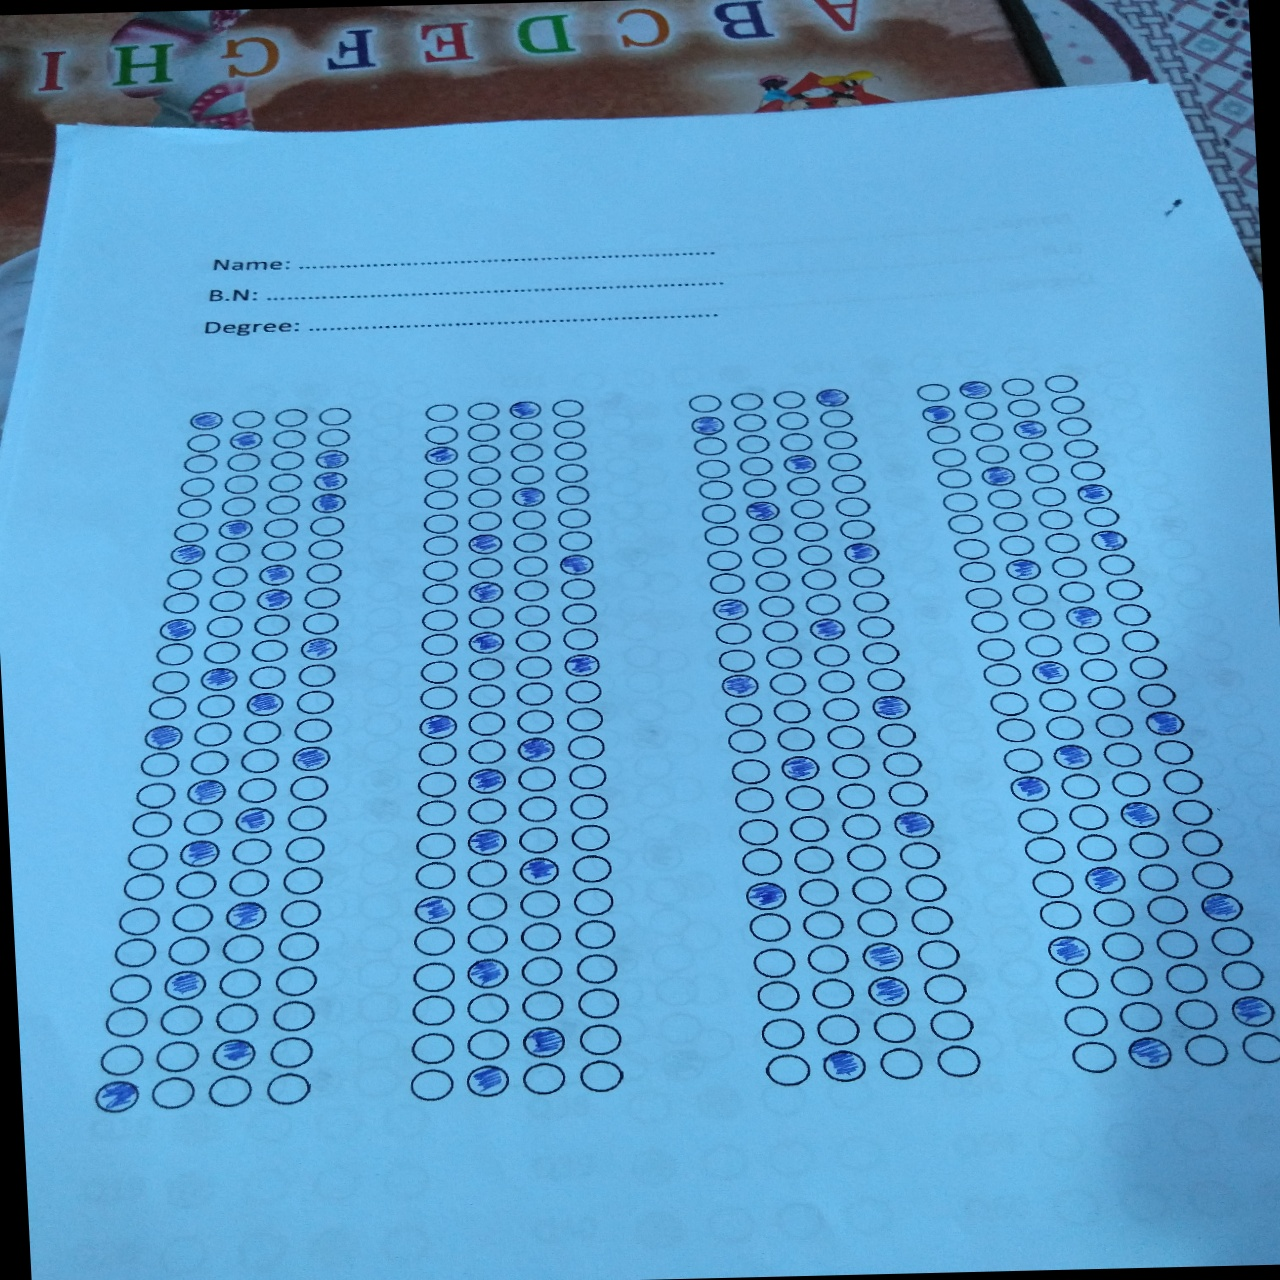not-c: (573, 952, 620, 989), (206, 1073, 254, 1109), (98, 1043, 147, 1080), (407, 1067, 455, 1103), (410, 958, 458, 994), (520, 1062, 568, 1098), (578, 1058, 626, 1095), (577, 1021, 625, 1057), (574, 985, 622, 1021), (764, 1053, 812, 1089), (930, 1008, 978, 1044), (1183, 1033, 1231, 1069), (1175, 995, 1223, 1032), (1053, 965, 1101, 1001), (1210, 922, 1258, 959), (1155, 927, 1203, 964), (1036, 897, 1084, 933), (914, 937, 962, 973), (872, 1009, 920, 1046), (813, 1012, 862, 1048), (803, 941, 851, 978), (151, 1076, 198, 1112), (154, 1039, 200, 1075), (878, 1046, 925, 1082), (1070, 1040, 1117, 1076), (1118, 999, 1165, 1035), (1220, 958, 1267, 994), (751, 945, 798, 981), (922, 972, 971, 1007), (1062, 1005, 1110, 1040), (1099, 930, 1148, 965), (760, 1016, 808, 1051), (753, 978, 801, 1013), (808, 976, 856, 1012), (903, 871, 951, 906), (411, 992, 457, 1028), (937, 1044, 983, 1080), (1108, 964, 1155, 999), (1164, 961, 1211, 996), (747, 910, 794, 945), (799, 907, 846, 942), (855, 905, 901, 940), (910, 903, 956, 938), (409, 1032, 456, 1065), (465, 1027, 512, 1061), (847, 874, 896, 907), (794, 876, 842, 908), (735, 816, 783, 849), (113, 937, 159, 969), (163, 933, 210, 966), (275, 931, 322, 964), (217, 966, 264, 999), (264, 1073, 311, 1105), (738, 846, 785, 879), (787, 812, 833, 845), (1021, 836, 1068, 869), (1135, 862, 1182, 894), (1126, 828, 1173, 860), (1090, 897, 1137, 930), (465, 990, 510, 1024), (116, 904, 162, 937), (274, 965, 320, 998), (108, 972, 154, 1005), (105, 1006, 151, 1039), (268, 1036, 314, 1069), (1030, 869, 1076, 901), (1065, 801, 1111, 833), (1159, 765, 1205, 798), (218, 933, 265, 965), (843, 842, 890, 873), (897, 840, 944, 872), (1177, 828, 1224, 859), (1075, 831, 1122, 863), (1169, 796, 1216, 828), (411, 924, 456, 956), (522, 989, 566, 1022), (278, 898, 324, 930), (157, 1005, 203, 1036), (213, 1001, 259, 1033), (271, 1000, 316, 1032), (791, 843, 837, 874), (1144, 894, 1190, 926), (513, 763, 558, 795), (515, 794, 559, 825), (568, 822, 613, 853), (566, 762, 611, 794), (564, 731, 608, 763), (568, 853, 613, 885), (464, 890, 509, 921), (467, 922, 511, 954), (572, 918, 617, 949), (170, 901, 215, 933), (1191, 860, 1235, 892), (1240, 1030, 1280, 1065), (515, 824, 560, 855), (570, 887, 615, 918), (284, 803, 329, 833), (836, 781, 881, 811), (1099, 738, 1145, 769), (465, 857, 509, 888), (467, 795, 510, 826), (520, 955, 564, 987), (518, 888, 563, 919), (518, 920, 563, 951), (231, 836, 275, 866), (125, 842, 170, 872), (122, 870, 166, 900), (1016, 804, 1061, 835), (721, 701, 765, 731), (282, 835, 328, 864), (225, 869, 271, 898), (280, 866, 326, 896), (1108, 769, 1153, 798), (782, 784, 828, 813), (1149, 736, 1194, 765), (568, 792, 612, 823), (286, 772, 331, 802), (234, 775, 279, 804), (238, 747, 282, 776), (173, 870, 218, 899), (886, 778, 931, 808), (715, 645, 760, 674), (731, 785, 777, 813), (130, 809, 173, 838), (726, 727, 769, 756), (464, 709, 509, 737), (414, 769, 458, 797), (414, 831, 458, 859), (132, 781, 177, 809), (1058, 771, 1103, 799), (728, 758, 772, 787), (1001, 745, 1046, 774), (467, 736, 509, 765), (416, 738, 459, 767), (415, 799, 458, 828), (414, 860, 457, 888), (188, 749, 231, 777), (137, 750, 181, 778), (838, 812, 881, 840), (247, 663, 290, 692), (292, 716, 334, 744), (193, 721, 236, 749), (181, 808, 223, 836), (559, 626, 602, 653), (515, 708, 558, 735), (763, 644, 806, 670), (825, 724, 869, 751), (809, 642, 852, 669), (874, 721, 918, 748), (829, 753, 872, 779), (771, 697, 812, 726), (154, 641, 196, 668), (417, 658, 459, 685), (195, 692, 237, 719), (712, 619, 754, 646), (765, 670, 808, 697), (821, 696, 863, 723), (860, 640, 903, 667), (865, 667, 907, 694), (1135, 681, 1177, 708), (975, 635, 1017, 662), (969, 607, 1012, 634), (964, 585, 1006, 612), (956, 559, 999, 586), (1056, 578, 1098, 605), (563, 706, 606, 731), (248, 636, 290, 663), (241, 719, 282, 745), (776, 726, 817, 753), (816, 668, 857, 695), (881, 751, 922, 778), (855, 613, 896, 640), (1043, 714, 1084, 741), (1092, 712, 1133, 738), (1085, 685, 1126, 712), (417, 632, 459, 658), (512, 628, 554, 654), (468, 683, 510, 709), (512, 681, 554, 707), (295, 663, 338, 689), (149, 669, 191, 695), (147, 695, 189, 721), (292, 689, 334, 715), (757, 619, 799, 645), (850, 590, 892, 615), (996, 717, 1039, 743), (988, 692, 1030, 717), (981, 663, 1023, 689), (1077, 658, 1119, 683), (1111, 601, 1151, 628), (299, 612, 342, 636), (513, 653, 554, 679), (467, 655, 508, 681), (418, 683, 459, 709), (561, 679, 602, 704), (803, 591, 844, 617), (1036, 688, 1077, 714), (1126, 654, 1167, 680), (1104, 577, 1145, 602), (1096, 552, 1137, 578), (511, 578, 553, 602), (463, 605, 505, 629), (511, 604, 553, 628), (558, 601, 600, 626), (206, 588, 248, 613), (159, 591, 202, 615), (200, 640, 243, 665), (754, 594, 796, 619), (1121, 628, 1160, 654), (1049, 554, 1089, 580), (795, 543, 835, 568), (203, 614, 246, 638), (251, 613, 294, 636), (207, 564, 248, 588), (302, 561, 343, 586), (1024, 633, 1065, 658), (1073, 631, 1114, 655), (1042, 529, 1081, 554), (418, 581, 461, 605), (301, 586, 343, 610), (421, 486, 461, 511), (464, 399, 504, 423), (799, 567, 839, 592), (753, 568, 792, 593), (421, 559, 462, 583), (418, 467, 459, 490), (421, 399, 462, 422), (554, 529, 595, 552), (418, 607, 459, 631), (1017, 607, 1058, 631), (952, 536, 990, 560), (846, 564, 885, 588), (709, 571, 748, 595), (749, 544, 788, 568), (164, 567, 204, 591), (421, 535, 461, 558), (465, 556, 505, 579), (558, 578, 598, 601), (1010, 583, 1050, 606), (704, 549, 744, 572), (832, 495, 872, 518), (1015, 440, 1055, 463), (819, 429, 859, 452), (420, 512, 461, 535), (510, 531, 551, 553), (922, 423, 964, 445), (738, 477, 779, 499), (731, 433, 772, 455), (731, 411, 772, 434), (745, 523, 787, 545), (998, 533, 1036, 557), (420, 423, 459, 445), (463, 420, 503, 442), (464, 443, 504, 465), (464, 464, 504, 486), (465, 486, 505, 509), (510, 554, 550, 577), (509, 509, 549, 531), (508, 463, 547, 485), (506, 442, 546, 464), (505, 418, 545, 441), (791, 519, 831, 542), (836, 518, 876, 540), (700, 526, 740, 549), (699, 502, 738, 524), (990, 511, 1030, 533), (1037, 508, 1077, 530), (1030, 485, 1070, 508), (1024, 463, 1064, 485), (985, 486, 1024, 509), (941, 491, 981, 513), (966, 422, 1006, 444), (972, 442, 1012, 464), (1067, 459, 1107, 482), (1054, 416, 1094, 438), (1048, 394, 1088, 416), (962, 399, 1002, 421), (998, 376, 1037, 399), (1041, 373, 1081, 395), (816, 408, 856, 430), (824, 451, 864, 474), (783, 475, 823, 497), (692, 457, 731, 479), (735, 456, 775, 478), (774, 410, 813, 433), (692, 434, 731, 456), (686, 393, 726, 415), (769, 389, 809, 411), (930, 445, 971, 467), (1005, 397, 1046, 418), (181, 452, 219, 475), (224, 451, 263, 474), (306, 538, 345, 560), (215, 542, 253, 564), (465, 510, 504, 532), (550, 418, 588, 441), (550, 440, 588, 462), (551, 461, 590, 483), (554, 484, 593, 506), (937, 468, 975, 490), (553, 508, 593, 529), (788, 499, 828, 520), (945, 513, 985, 535), (1081, 506, 1121, 527), (913, 383, 953, 404), (695, 479, 735, 501), (776, 431, 816, 452), (727, 390, 767, 411), (268, 449, 306, 471), (261, 517, 299, 539), (219, 495, 257, 517), (177, 475, 215, 497), (172, 520, 210, 543), (308, 516, 346, 538), (828, 474, 869, 493), (264, 493, 302, 515), (222, 474, 260, 495), (175, 498, 213, 519), (549, 397, 587, 418), (1062, 438, 1101, 459), (260, 539, 297, 561), (270, 429, 307, 450), (266, 472, 304, 493), (316, 406, 353, 427), (185, 433, 222, 454), (229, 409, 266, 429), (272, 408, 309, 428), (315, 428, 352, 448)
taken-c: (462, 1062, 512, 1099), (518, 1024, 568, 1061), (1197, 890, 1247, 926), (207, 1036, 257, 1073), (91, 1078, 141, 1115), (462, 954, 511, 990), (410, 892, 459, 928), (1043, 933, 1092, 968), (858, 939, 906, 974), (1125, 1035, 1175, 1069), (1226, 995, 1275, 1029), (821, 1049, 867, 1084), (159, 968, 207, 1002), (1080, 863, 1128, 897), (1115, 798, 1164, 831), (515, 855, 561, 888), (865, 974, 912, 1008), (465, 828, 513, 860), (414, 710, 462, 743), (513, 731, 559, 765), (465, 764, 512, 797), (1007, 772, 1055, 804), (891, 809, 937, 840), (743, 880, 790, 911), (1029, 658, 1075, 688), (177, 838, 222, 869), (779, 754, 824, 784), (1050, 743, 1096, 772), (223, 900, 267, 930), (1144, 709, 1189, 738), (232, 805, 275, 835), (463, 628, 508, 656), (185, 778, 229, 806), (561, 652, 606, 679), (463, 531, 508, 558), (719, 672, 761, 700), (197, 666, 240, 693), (241, 689, 285, 716), (464, 579, 508, 606), (554, 552, 598, 579), (1087, 527, 1130, 554), (978, 463, 1021, 490), (143, 723, 185, 750), (290, 745, 332, 772), (805, 615, 847, 642), (1002, 556, 1044, 583), (709, 597, 751, 622), (870, 694, 912, 720), (1064, 605, 1107, 631), (1074, 482, 1116, 508), (256, 561, 297, 586), (509, 485, 550, 510), (420, 445, 461, 470), (503, 399, 544, 423), (742, 501, 784, 524), (157, 618, 197, 642), (299, 636, 339, 661), (254, 587, 295, 611), (813, 386, 855, 409), (839, 542, 881, 564), (216, 518, 256, 542), (169, 542, 207, 565), (918, 402, 956, 425), (1009, 418, 1049, 441), (955, 379, 995, 401), (309, 491, 347, 515), (783, 452, 821, 476), (309, 470, 348, 492), (690, 415, 727, 438), (186, 410, 225, 431), (229, 430, 267, 451), (312, 449, 350, 470)
